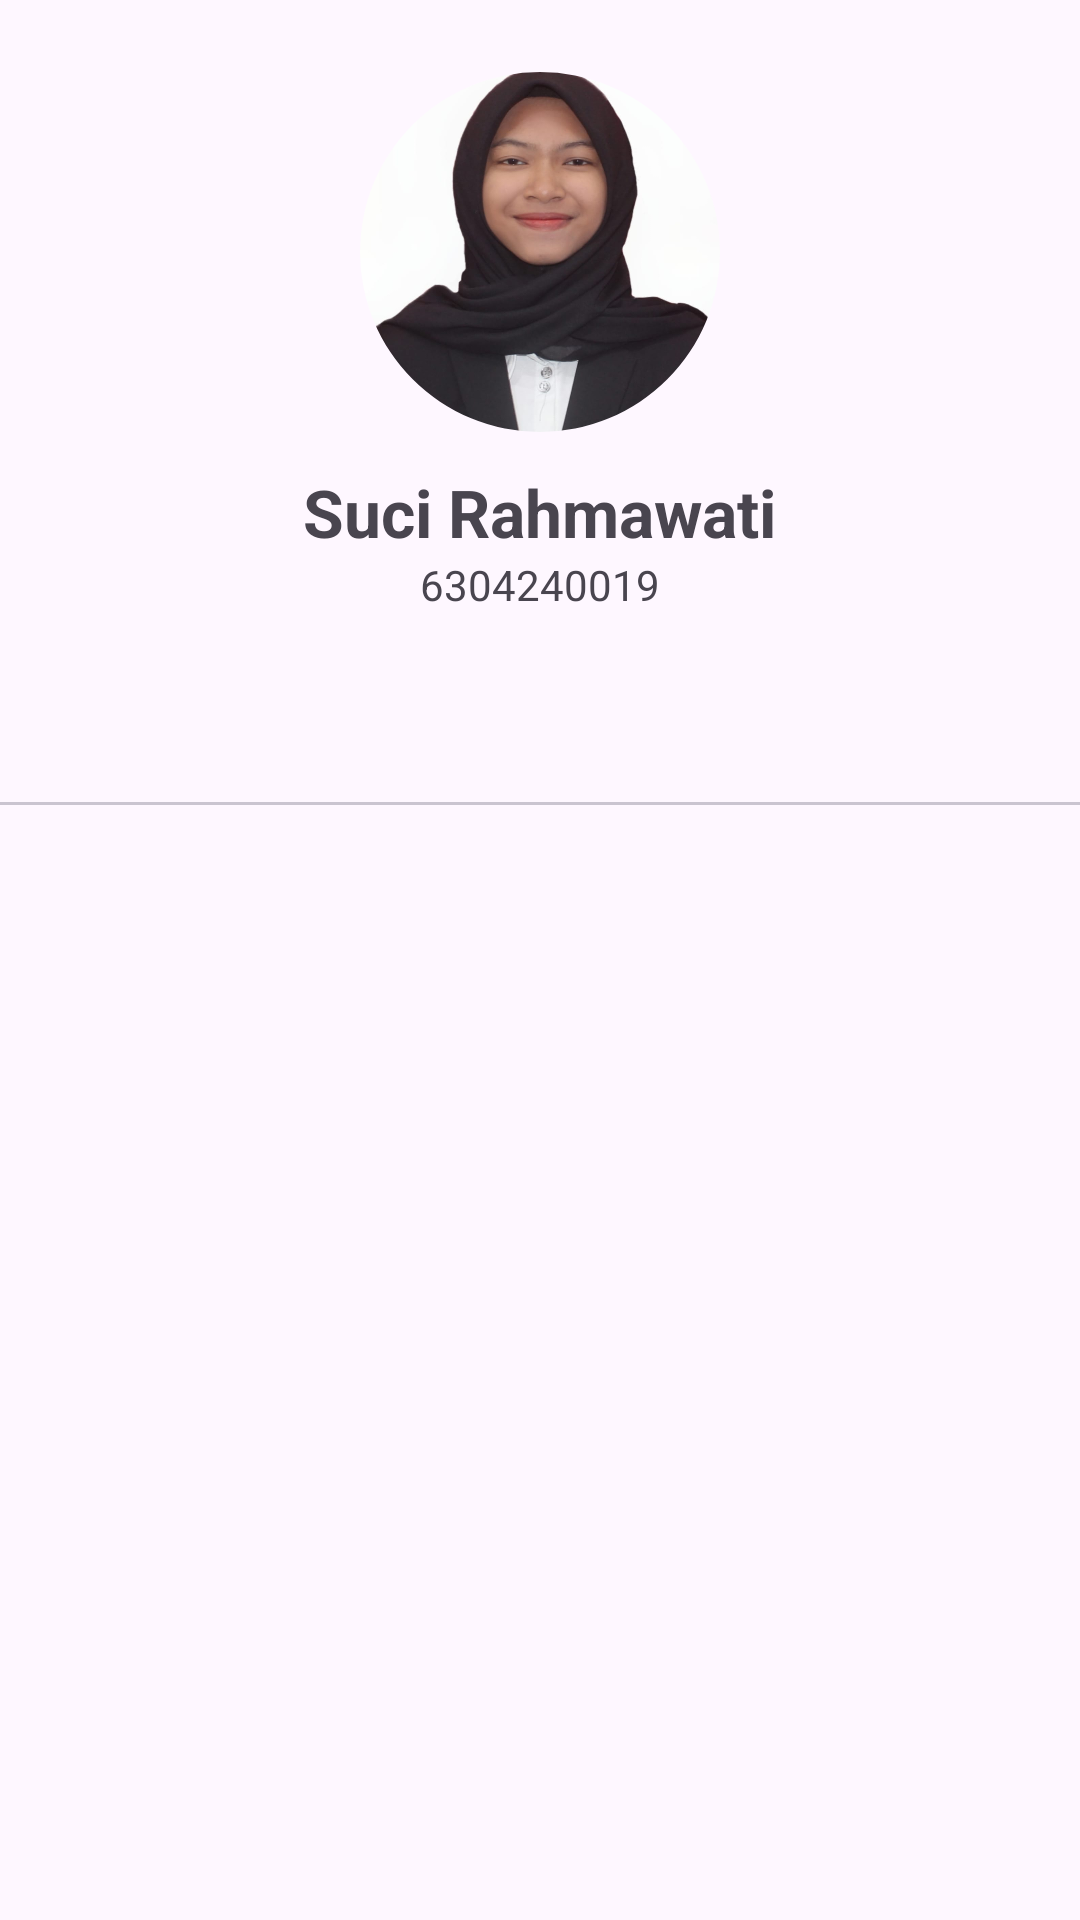

Icon bounding boxes for this 1080px x 1920px phone screenshot, format (x1, y1, x2, y2):
Foto profil: (376, 72, 708, 431)
